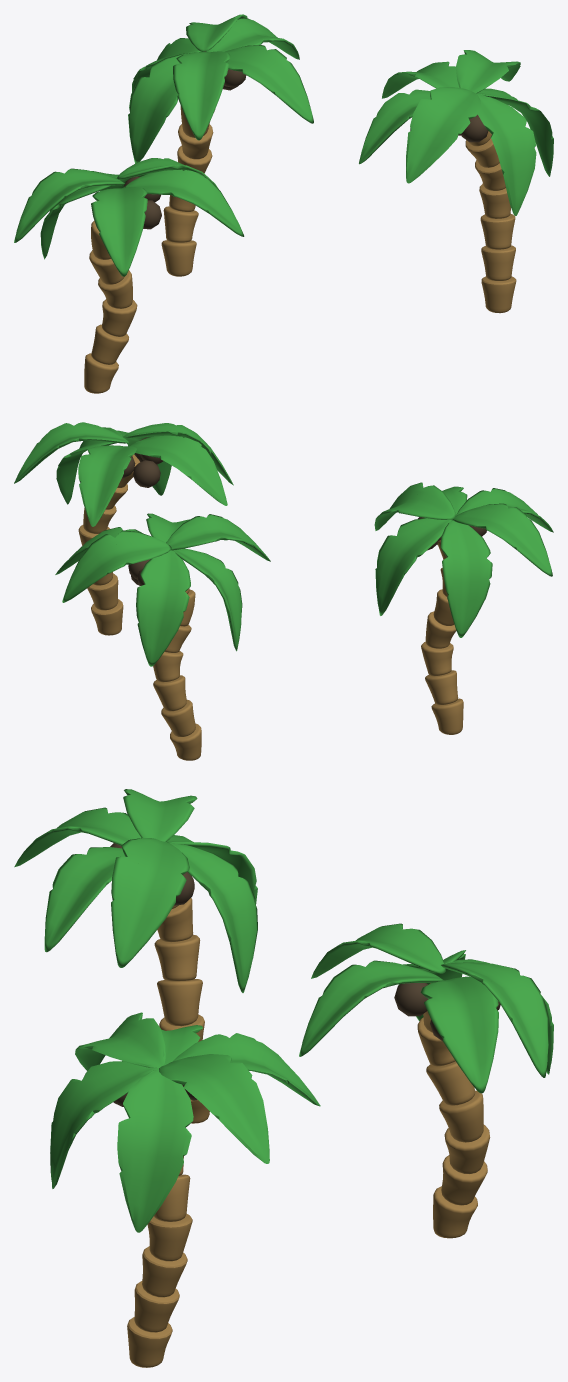
File: palms.fbx
3 views of the same model, one above another, from view 1: azimuth 30°, elevation 25°; view 2: azimuth 150°, elevation 25°; view 3: azimuth 270°, elevation 25° (orthographic). The views are drawn at different scales.
Visible parts, largest first — view 1: palm1, pakm3, palm2; view 2: palm2, pakm3, palm1; view 3: palm1, palm2, pakm3.
Boxes of the visible parts, x1,y1,x2,y2 form: palm1: [359, 50, 553, 313]; pakm3: [128, 14, 313, 276]; palm2: [14, 158, 244, 393]; palm2: [374, 482, 553, 734]; pakm3: [55, 513, 270, 760]; palm1: [14, 422, 233, 635]; palm1: [50, 1012, 320, 1367]; palm2: [14, 789, 257, 1123]; pakm3: [299, 923, 553, 1238].
Bounding box in the file's own units: 402 × 167 × 270.
